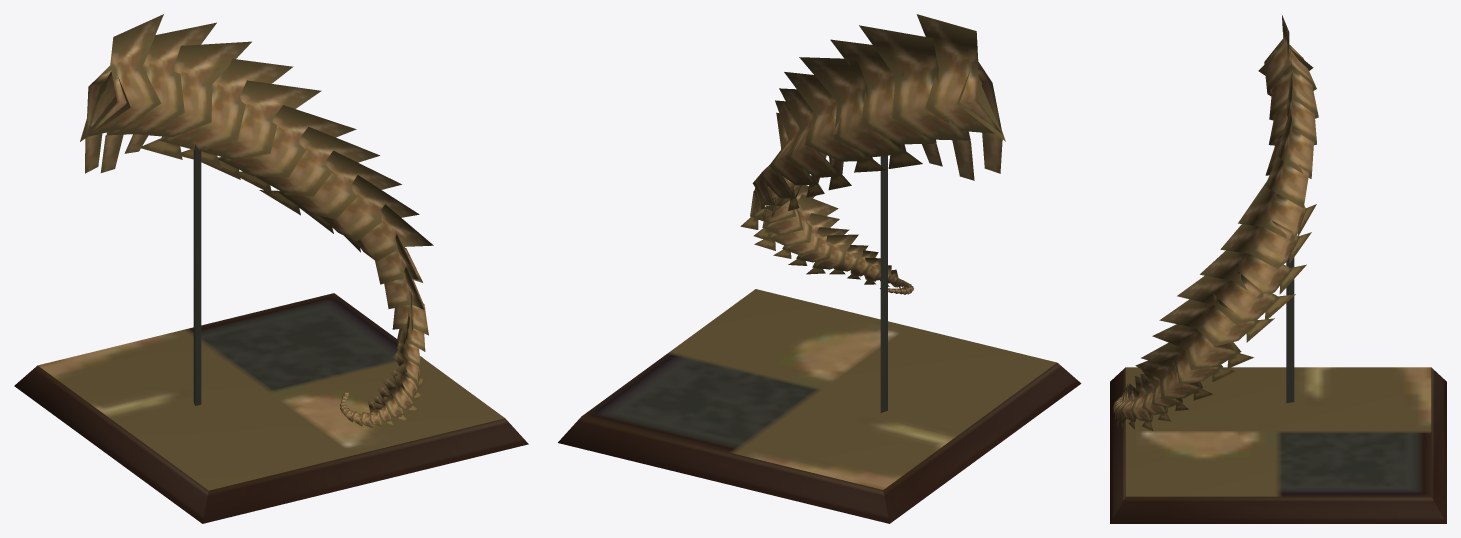
The model's file is int_din_sei_d.dae.
3 renders of one model, left to right at view 1: azimuth 30°, elevation 25°; view 2: azimuth 150°, elevation 25°; view 3: azimuth 270°, elevation 25°, orthographic. The views are drawn at different scales.
Parts seen in each view (by area): view 1: int_din_sei_d; view 2: int_din_sei_d; view 3: int_din_sei_d.
Boxes of the visible parts, left/top/right/bottom form: int_din_sei_d: left=14, top=14, right=528, bottom=523; int_din_sei_d: left=558, top=14, right=1081, bottom=523; int_din_sei_d: left=1110, top=15, right=1446, bottom=523.
Bounding box in the file's own units: 63 × 72.35 × 58.65.
1 material, 1 textured.
